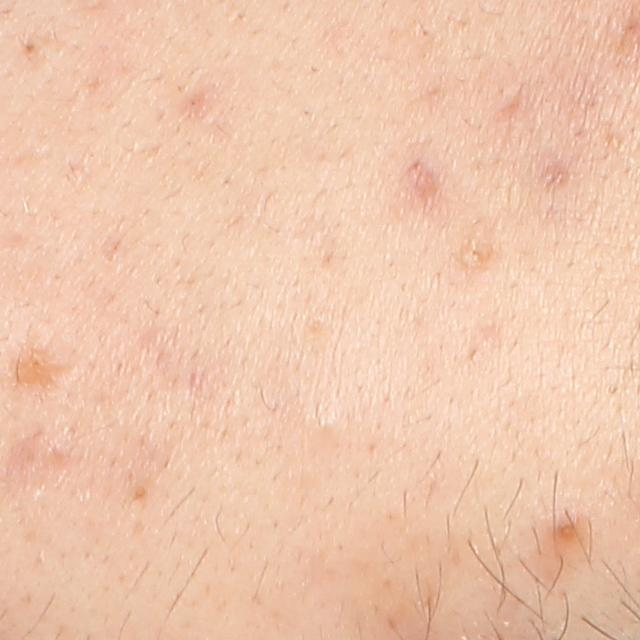atrophic_scar: (496, 77, 526, 123)
comedo: (534, 510, 584, 546), (463, 233, 499, 273), (303, 309, 333, 343), (310, 407, 340, 439), (15, 37, 40, 63)
